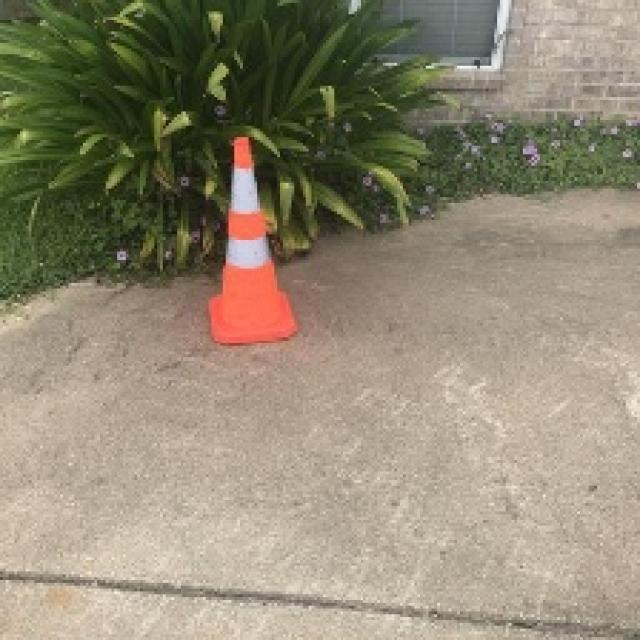traffic cone: (207, 136, 299, 346)
